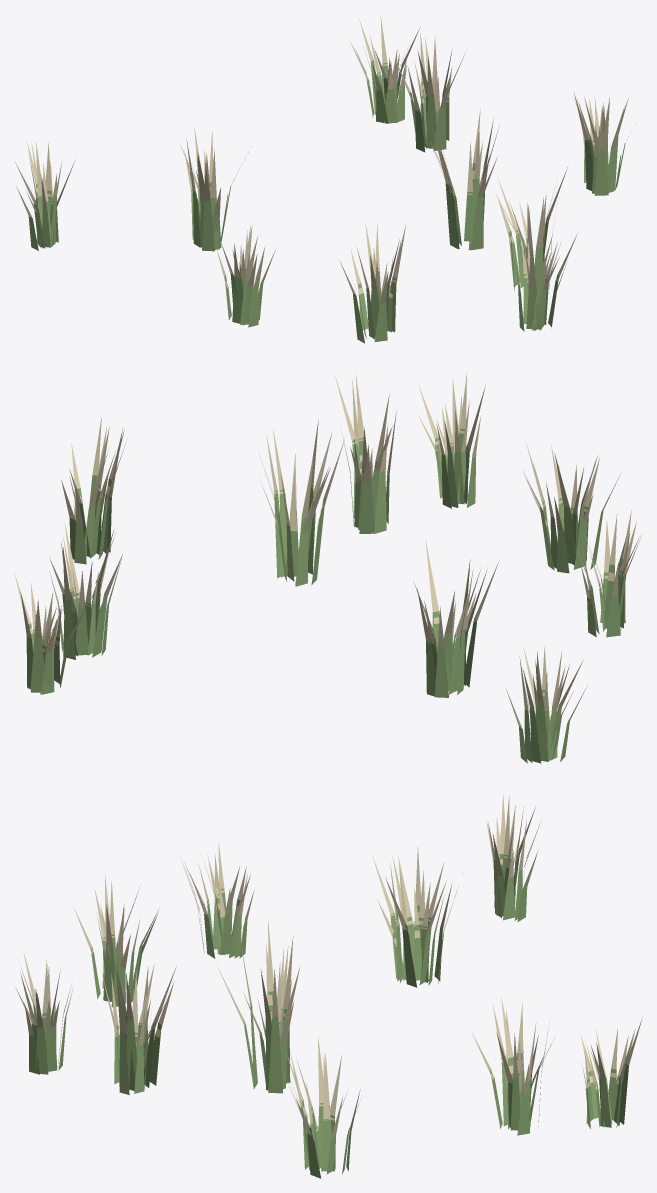
Rendered from Blender_DuneGrass_2.glb.
The picture shows the model from 3 angles, top to bottom: view 1: azimuth 30°, elevation 25°; view 2: azimuth 150°, elevation 25°; view 3: azimuth 270°, elevation 25°; orthographic projection. The views are drawn at different scales.
Parts seen in each view (by area): view 1: Blender_DuneGrass_2; view 2: Blender_DuneGrass_2; view 3: Blender_DuneGrass_2.
Boxes of the visible parts, x1,y1,x2,y2 form: Blender_DuneGrass_2: (15, 16, 630, 343); Blender_DuneGrass_2: (14, 373, 640, 763); Blender_DuneGrass_2: (15, 793, 641, 1178).
Size of the model in its own units: 3.52 by 0.8251 by 3.22.
